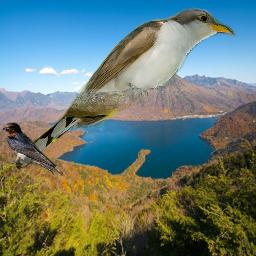Cuckoo: (11, 6, 240, 171)
Swallow: (2, 122, 66, 177)
